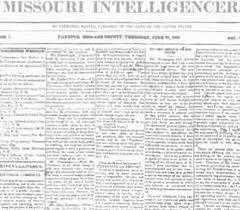Printing industry: (1, 1, 240, 210)
